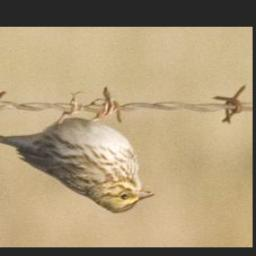Sparrow: (0, 92, 158, 218)
